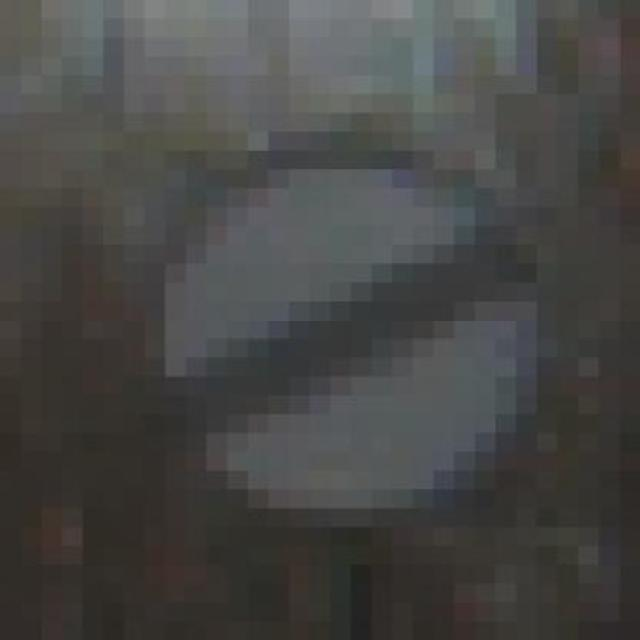End of all speed and passing limits: (103, 113, 579, 527)
